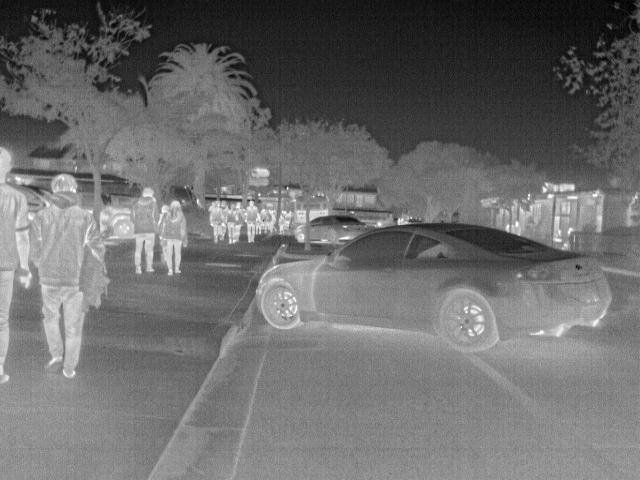car: (256, 222, 613, 354), (308, 214, 374, 243), (99, 203, 135, 240)
person: (34, 172, 108, 381), (2, 147, 34, 385), (157, 196, 189, 276), (132, 189, 159, 275), (242, 197, 259, 243), (210, 200, 226, 242), (225, 200, 239, 244), (255, 207, 270, 234), (266, 209, 280, 233), (510, 218, 524, 236), (551, 228, 566, 244)
